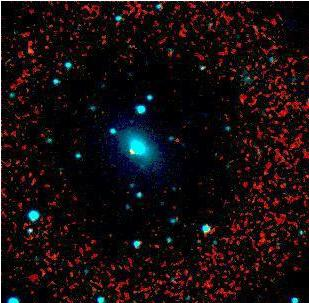star: (123, 136, 153, 166)
